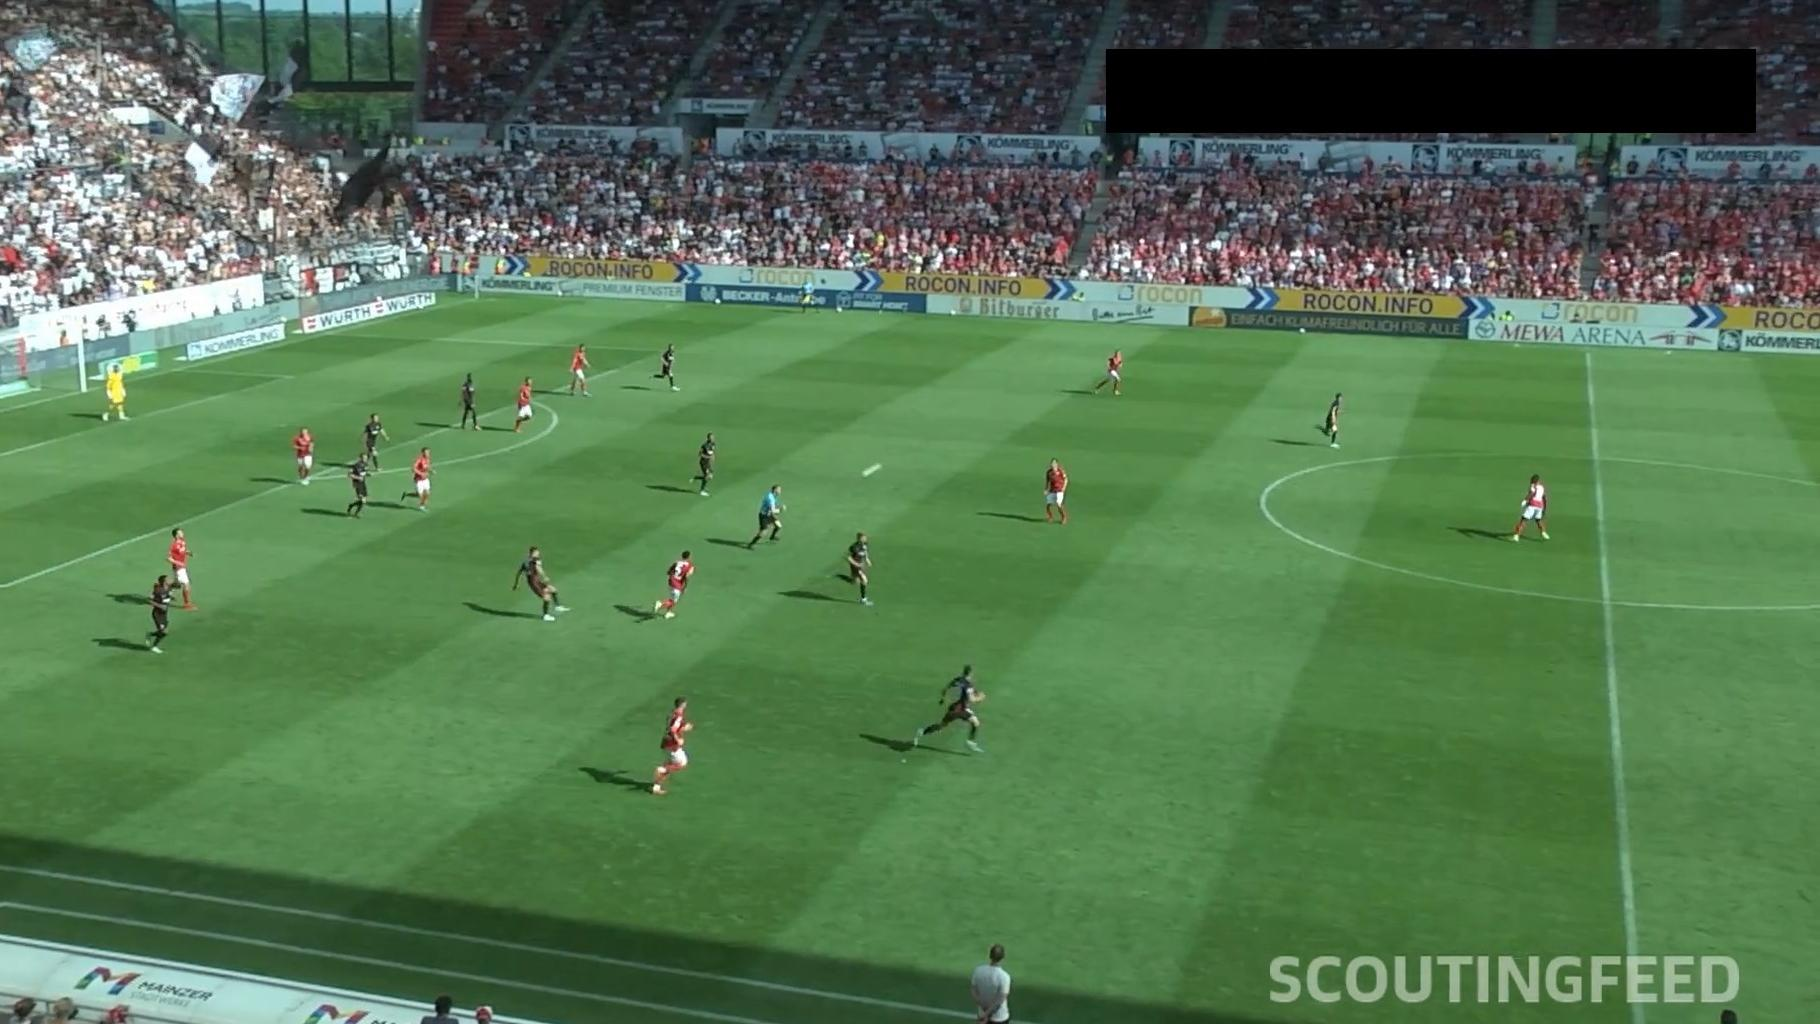ball: (860, 461, 882, 479)
